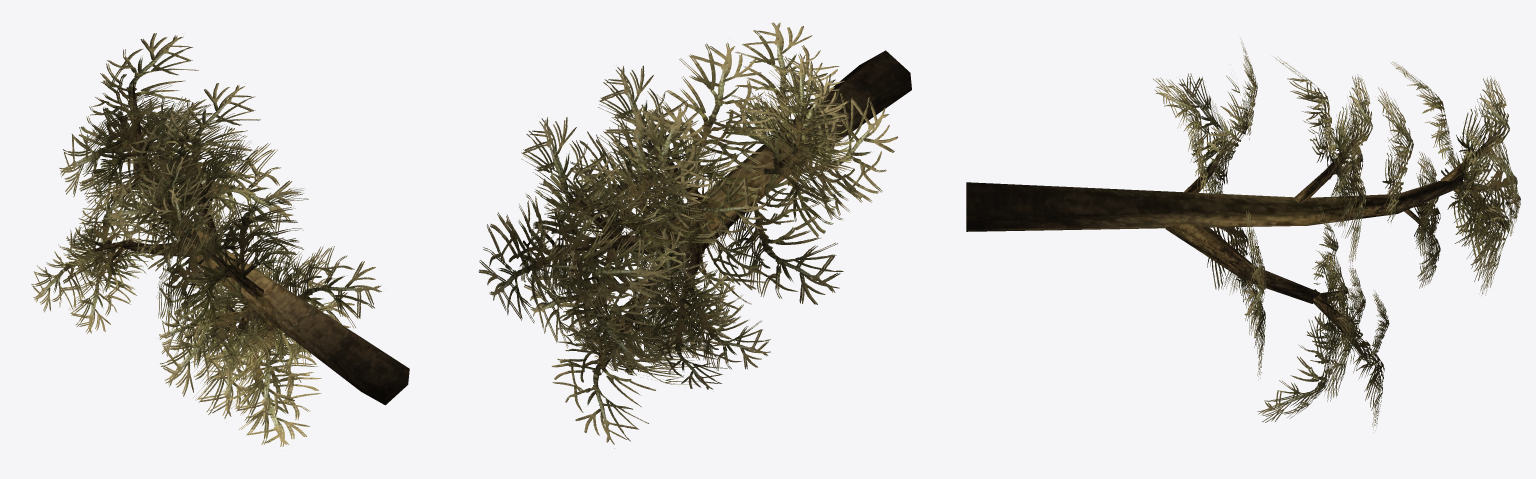
File: cedar_atlas_dead_2.glb
3 views of the same model, side by side, from view 1: azimuth 30°, elevation 25°; view 2: azimuth 150°, elevation 25°; view 3: azimuth 270°, elevation 25° (orthographic). The views are drawn at different scales.
Size of the model in its own units: 19.94 by 22.27 by 29.56.
Materials: 1 (1 with a texture image).
